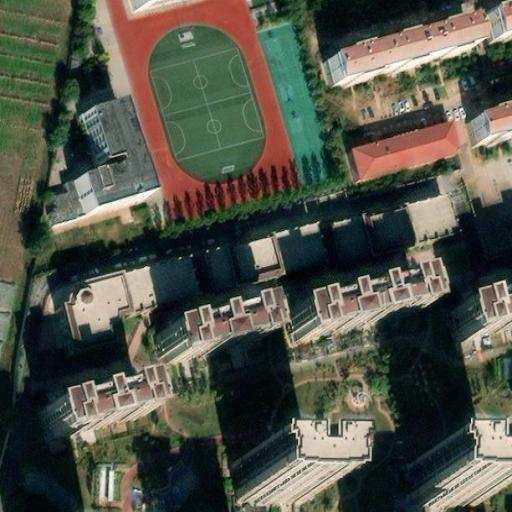building: (62, 254, 197, 351), (322, 19, 476, 88), (289, 273, 429, 339), (74, 103, 150, 215), (351, 117, 462, 181), (43, 377, 154, 437), (160, 305, 269, 362), (331, 204, 413, 254), (417, 448, 509, 492), (237, 450, 329, 494), (453, 290, 512, 340), (405, 193, 458, 240), (275, 221, 327, 268), (236, 232, 284, 278), (42, 179, 84, 225), (469, 106, 512, 146), (205, 246, 236, 288), (480, 6, 512, 43), (0, 278, 16, 341)
